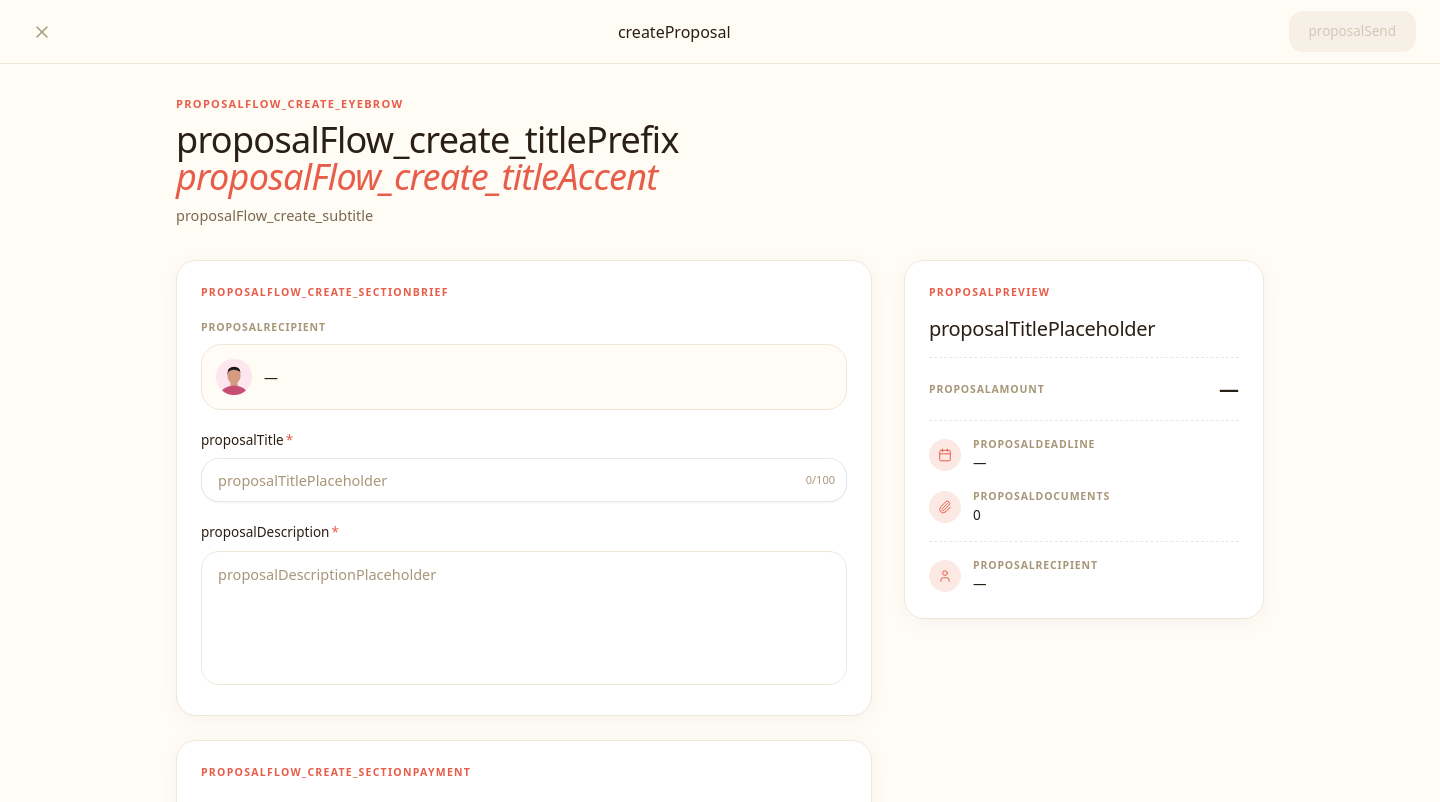
CreateProposalPage › shows title character counter
Expected: the text "0/100" is shown, [806,472,835,489]
// After typing
In the field labelled "proposalTitle*": (524, 480) [201,458,847,502], type "Hello"
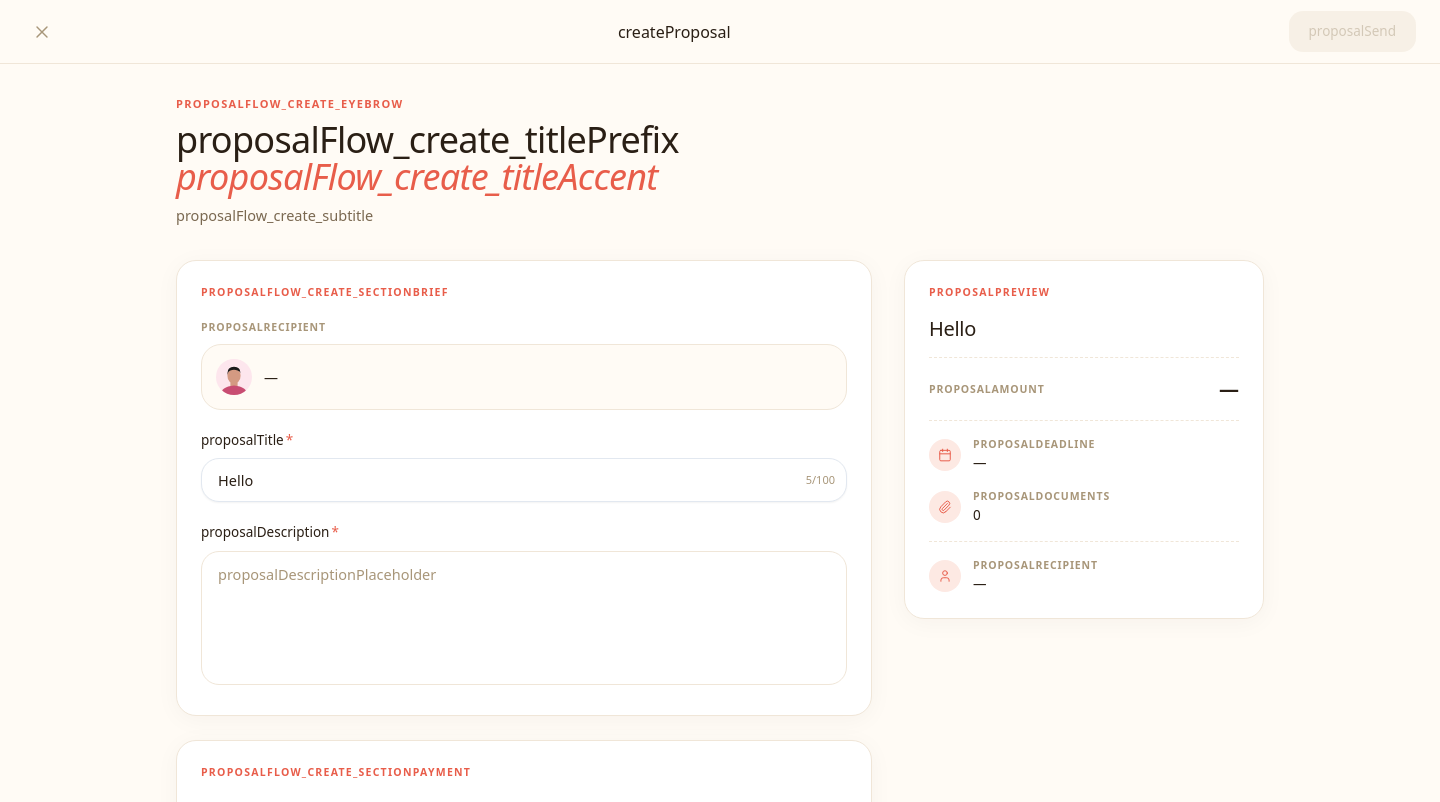
Expected: the text "5/100" is shown, [806,472,835,489]
